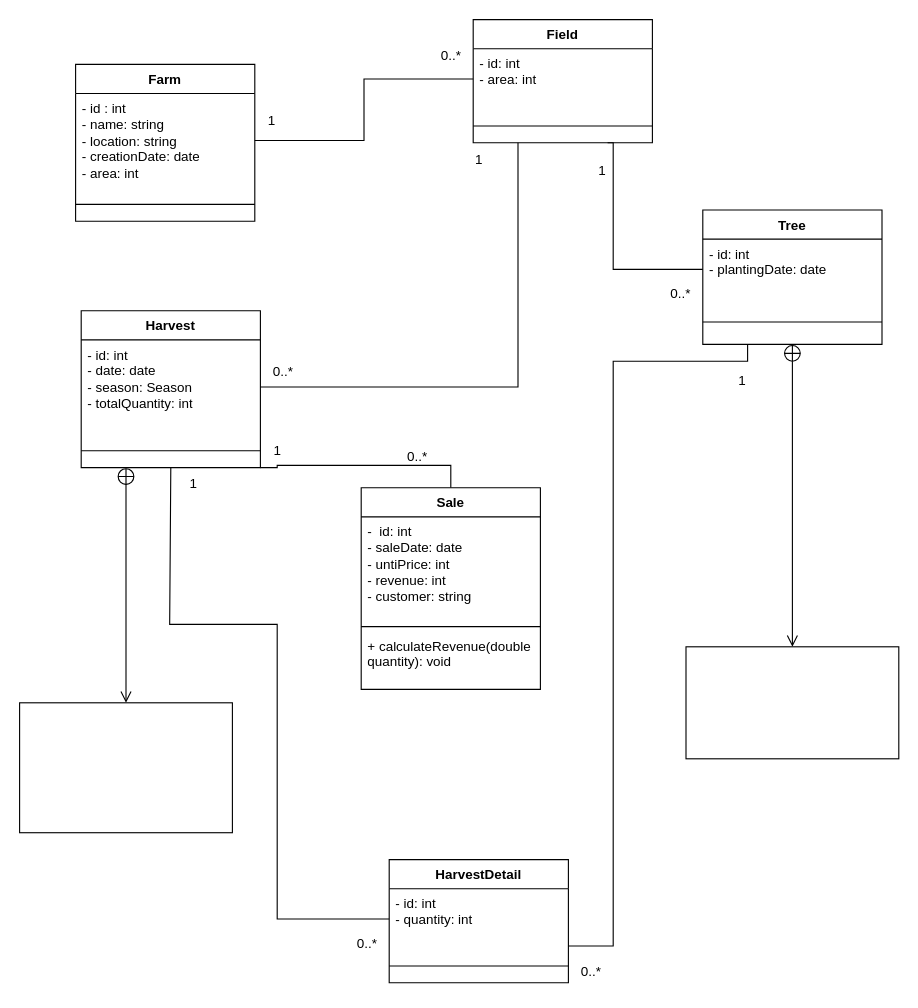
The diagram is 918 pixels wide and 1008 high, and some of its shapes have lost their labels. Here are the shapes that lost their labels. From the top down, the centre of each, then its label:
At pixel 792 702: "<<enum>> TreeStatus OLD YOUNG MATURE".
At pixel 125 767: "<<enum>> Season WINTER SPRING SUMMER AUTUMN".
